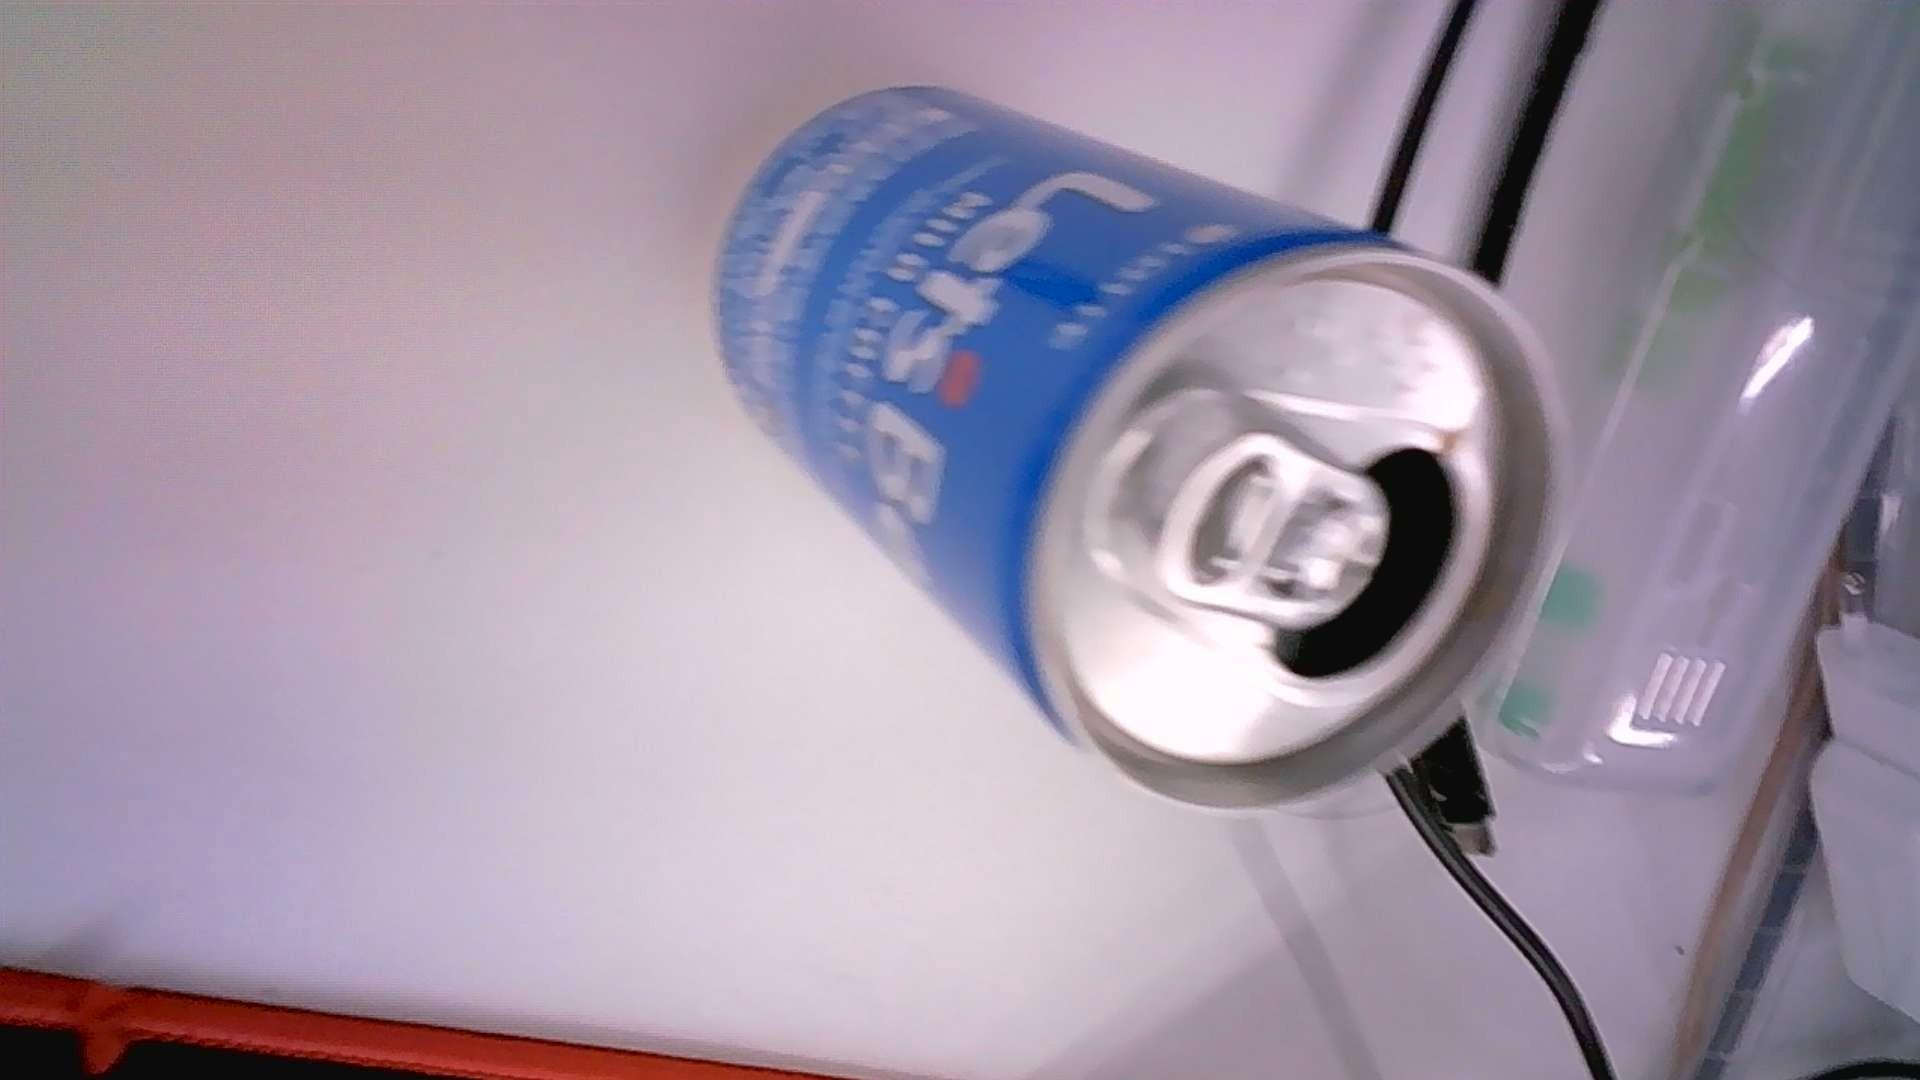letsbe: (712, 83, 1568, 816)
